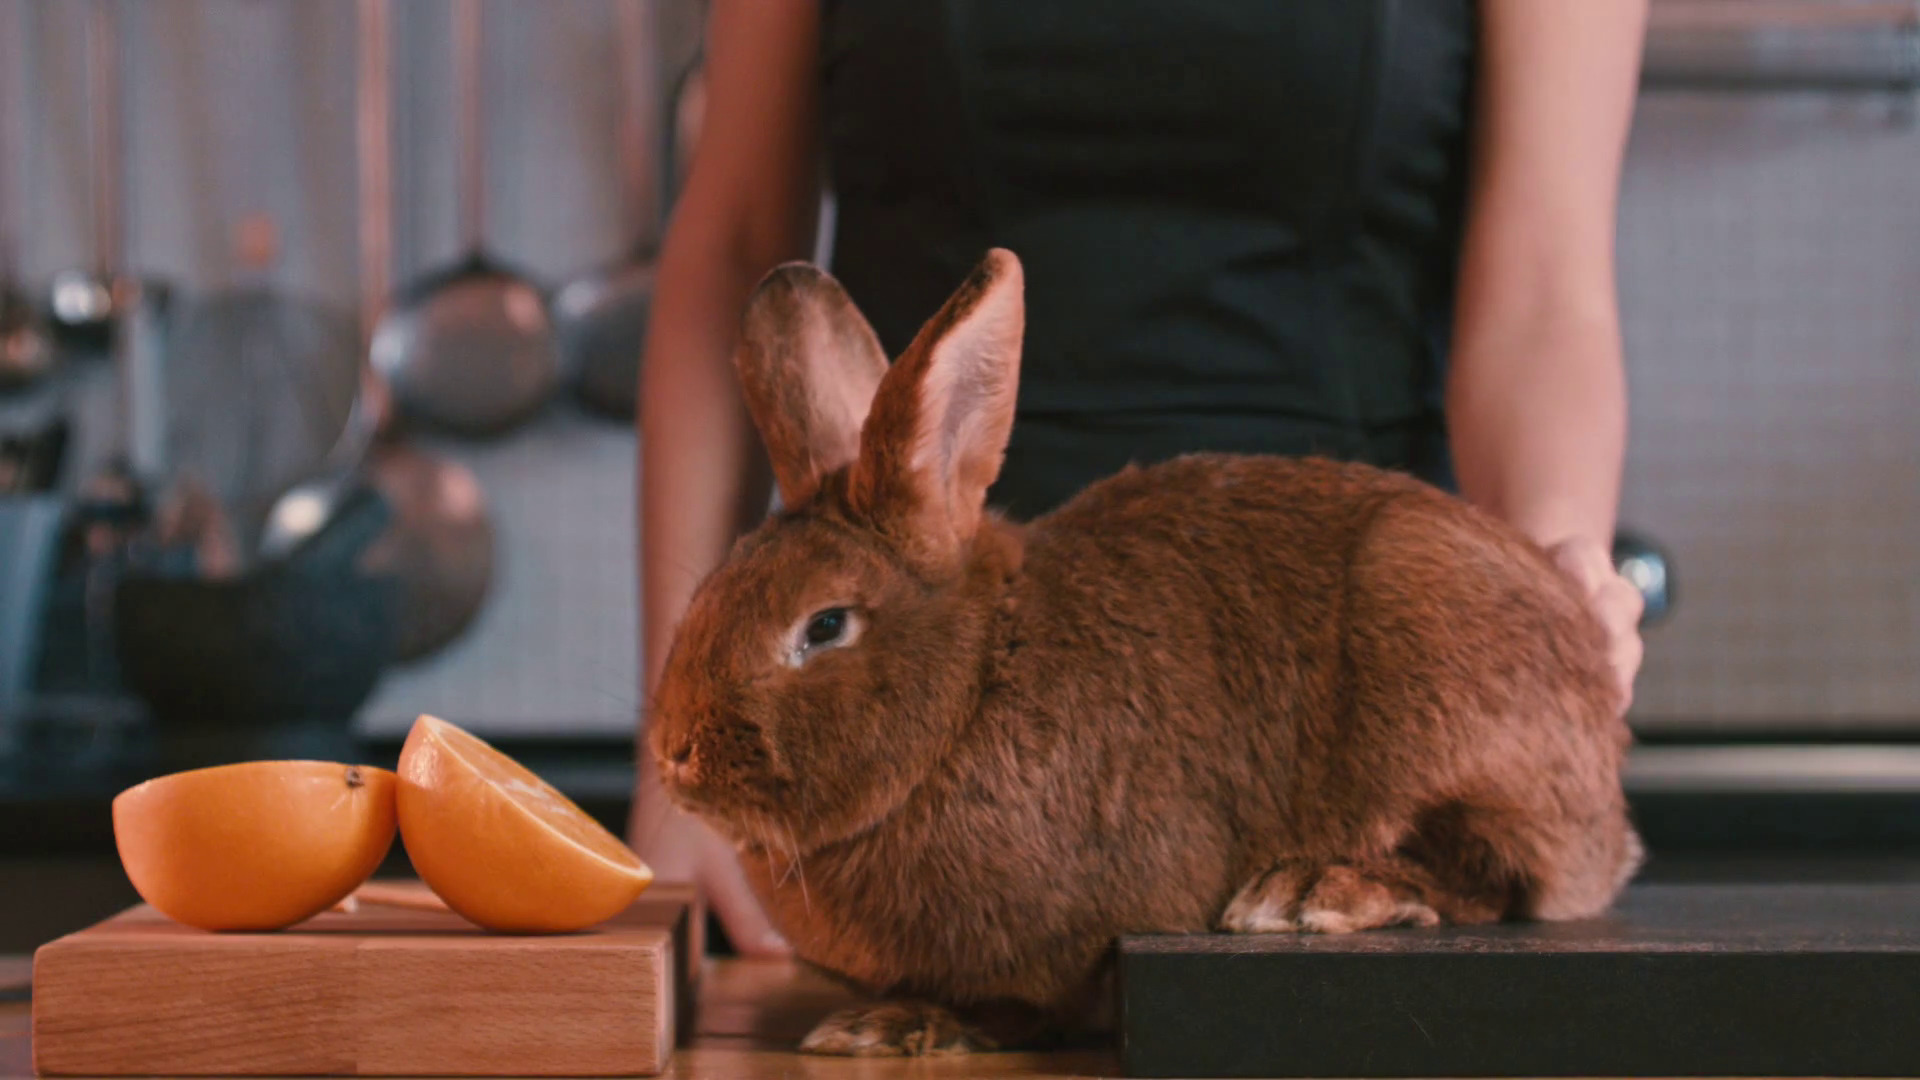bunny: (580, 235, 1697, 1035)
